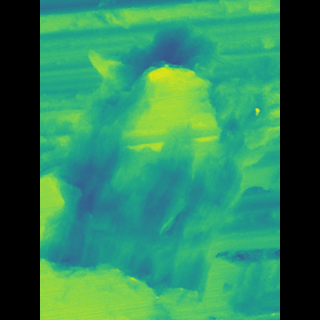Loch: (79, 25, 246, 303)
